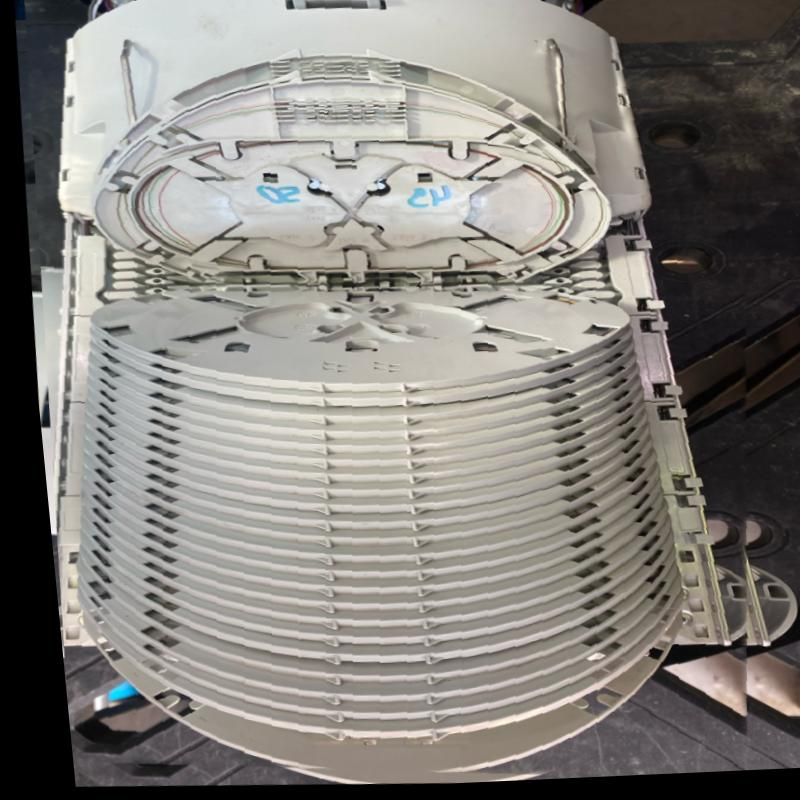NT-Muffen: (36, 0, 740, 777)
